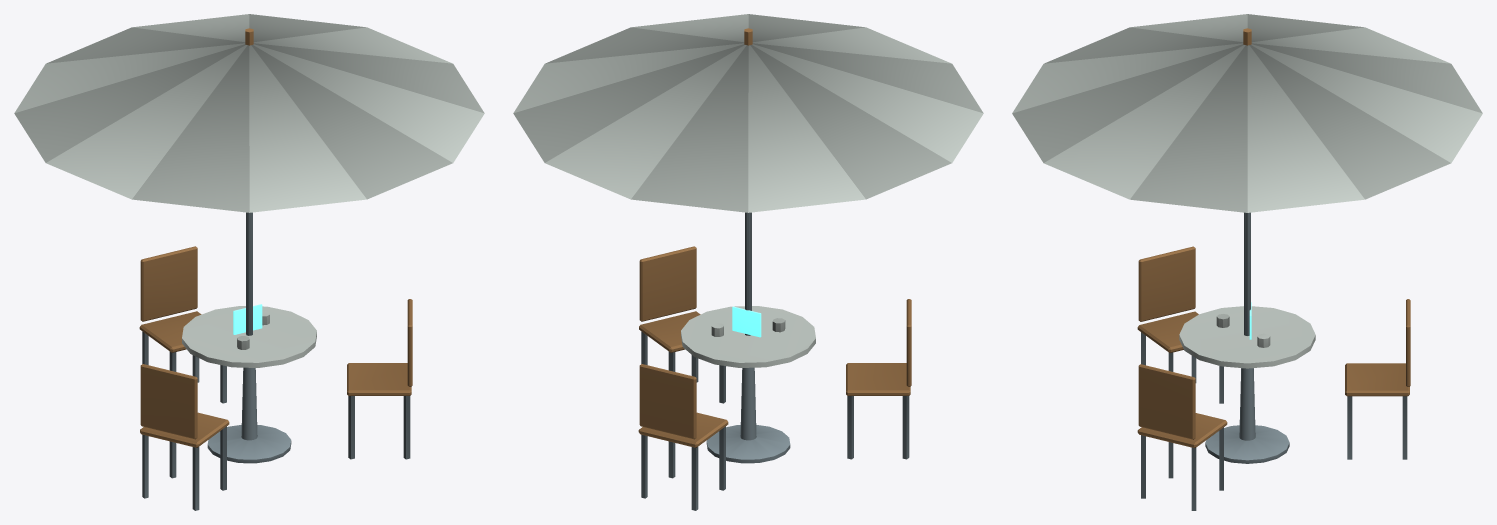
The model's file is cafe-set.lod0.glb.
The picture shows the model from 3 angles, left to right: view 1: azimuth 30°, elevation 25°; view 2: azimuth 150°, elevation 25°; view 3: azimuth 270°, elevation 25°; orthographic projection.
Visible parts, largest first — view 1: structure; view 2: structure; view 3: structure.
Boxes of the visible parts, left/top/right/bottom form: structure: left=14, top=14, right=484, bottom=510; structure: left=513, top=14, right=983, bottom=510; structure: left=1012, top=14, right=1482, bottom=510.
Size of the model in its own units: 2.9 by 2.82 by 2.9.
